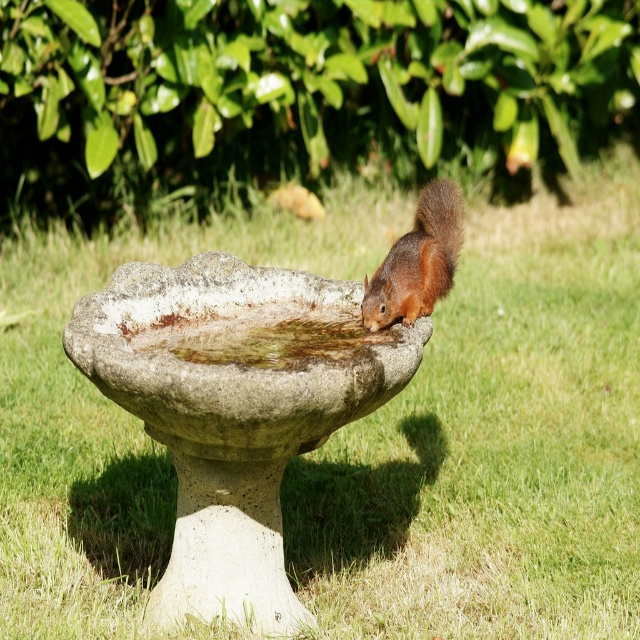Squirrel: (361, 170, 468, 333)
